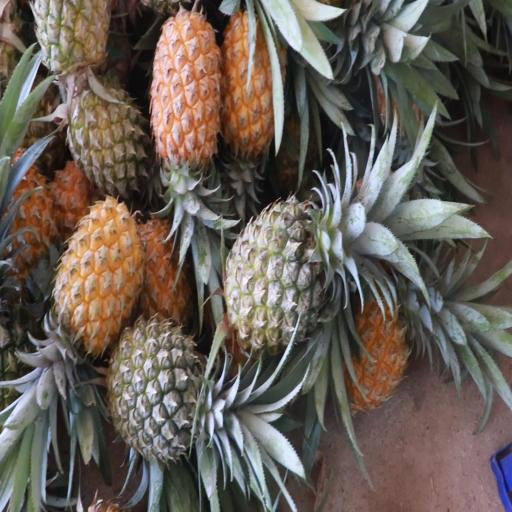Pineapple - v8 v1: (42, 199, 146, 386), (151, 0, 223, 213), (220, 0, 276, 163)
